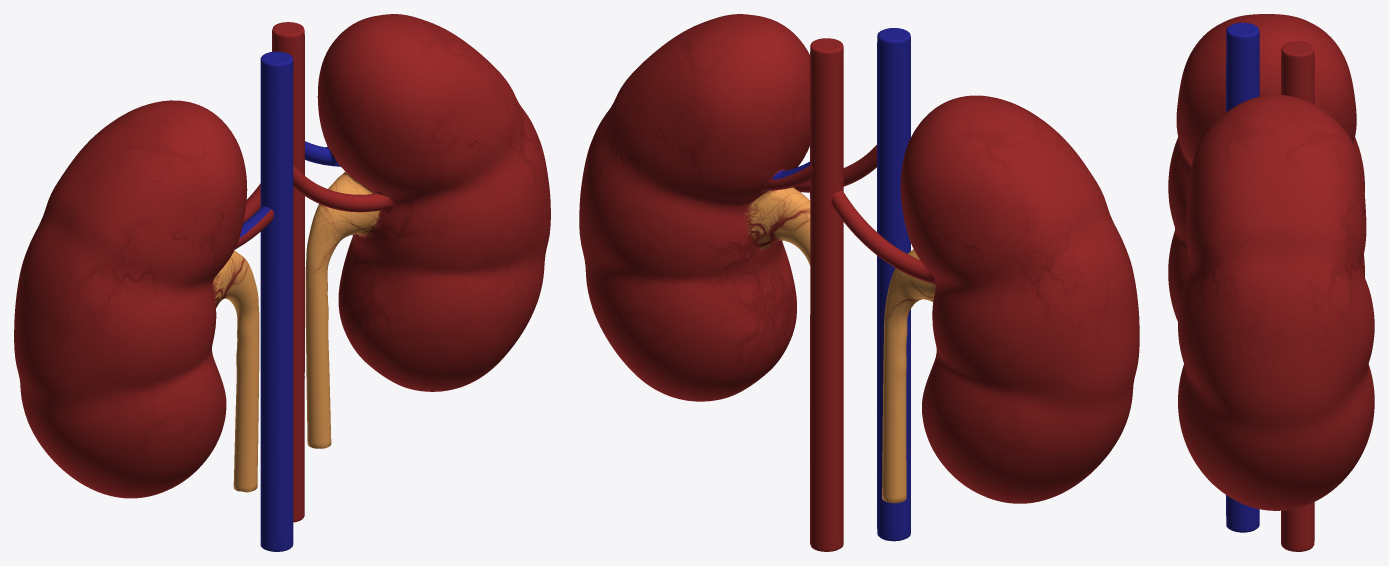
File: kidney.glb
3 views of the same model, side by side, from view 1: azimuth 30°, elevation 25°; view 2: azimuth 150°, elevation 25°; view 3: azimuth 270°, elevation 25° (orthographic). The views are drawn at different scales.
Parts seen in each view (by area): view 1: kidney02:kidney03:Group12708, Group12708; view 2: kidney02:kidney03:Group12708, Group12708; view 3: Group12708, kidney02:kidney03:Group12708.
Boxes of the visible parts, x1,y1,x2,y2 form: kidney02:kidney03:Group12708: (14, 22, 304, 551); Group12708: (293, 14, 550, 448); kidney02:kidney03:Group12708: (810, 28, 1139, 551); Group12708: (579, 14, 876, 401); Group12708: (1178, 94, 1374, 510); kidney02:kidney03:Group12708: (1168, 14, 1364, 551).
Size of the model in its own units: 1.72 by 1.55 by 0.5823.
Materials: 1 (1 with a texture image).
